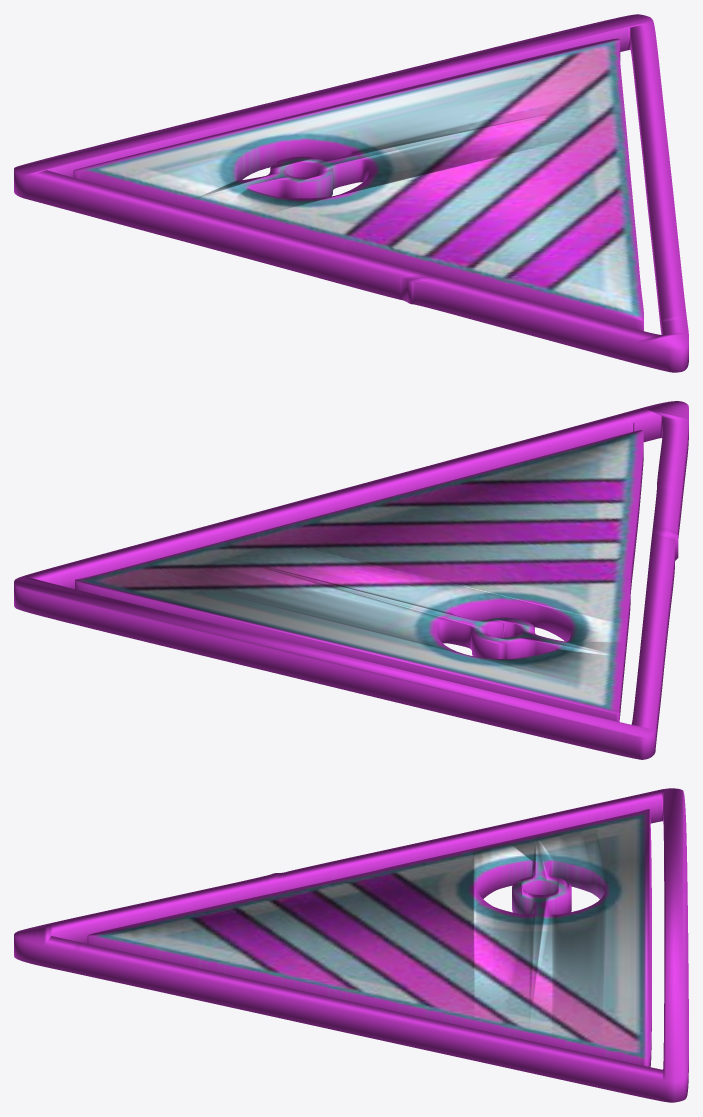
3 renders of one model, top to bottom at view 1: azimuth 30°, elevation 25°; view 2: azimuth 150°, elevation 25°; view 3: azimuth 270°, elevation 25°, orthographic. The views are drawn at different scales.
Visible parts, largest first — view 1: path1587; view 2: path1587; view 3: path1587.
Boxes of the visible parts, box(x1,y1,x2,y2) form: path1587: box(14, 14, 688, 372); path1587: box(14, 401, 688, 759); path1587: box(14, 788, 688, 1102).
Size of the model in its own units: 59.51 by 2 by 57.91.
Materials: 1 (1 with a texture image).
